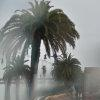Palm tree: (5, 4, 77, 95)
